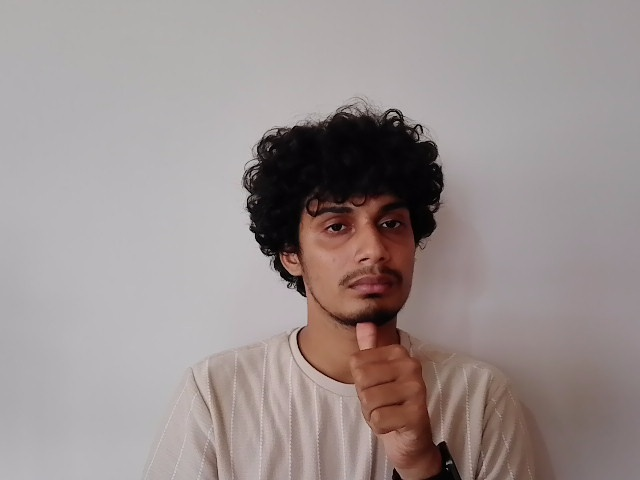not: (290, 294, 439, 434)
